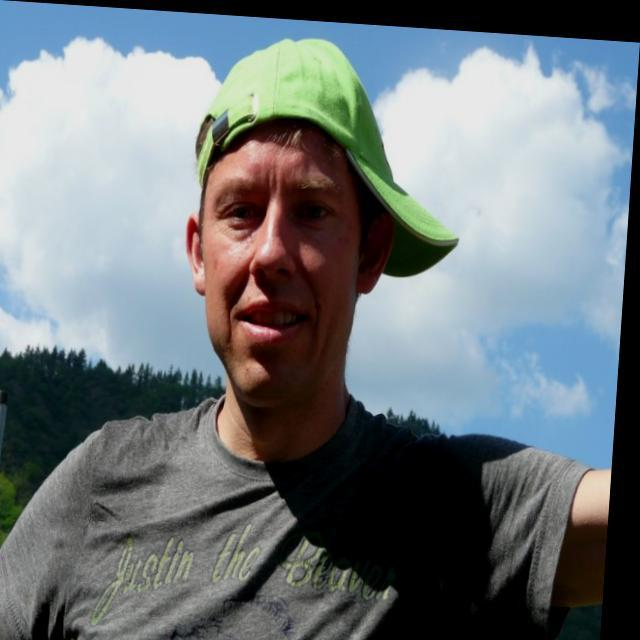hat: (193, 35, 455, 285)
